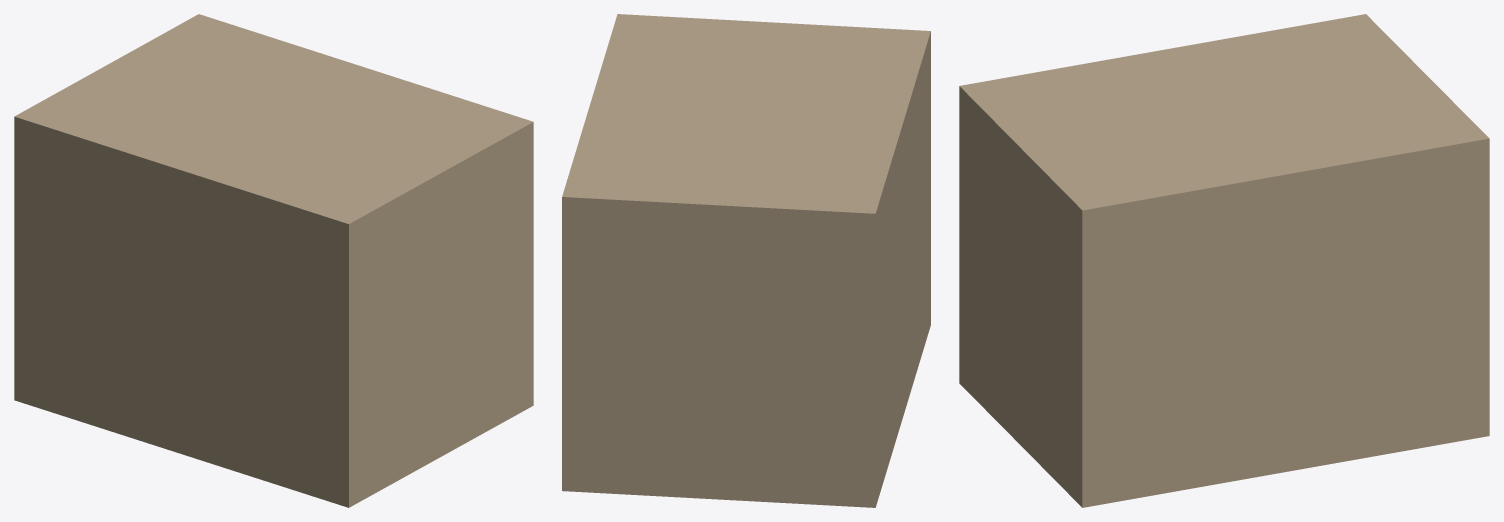
File: bld_106796635.dae
3 renders of one model, left to right at view 1: azimuth 30°, elevation 25°; view 2: azimuth 150°, elevation 25°; view 3: azimuth 270°, elevation 25°, orthographic. The views are drawn at different scales.
Visible parts, largest first — view 1: bld_106796635; view 2: bld_106796635; view 3: bld_106796635.
Part boxes in pixels (x1,y1,x2,y2): bld_106796635: (14, 14, 533, 507); bld_106796635: (562, 14, 930, 507); bld_106796635: (959, 14, 1489, 507).
Size of the model in its own units: 11.34 by 12.92 by 8.
